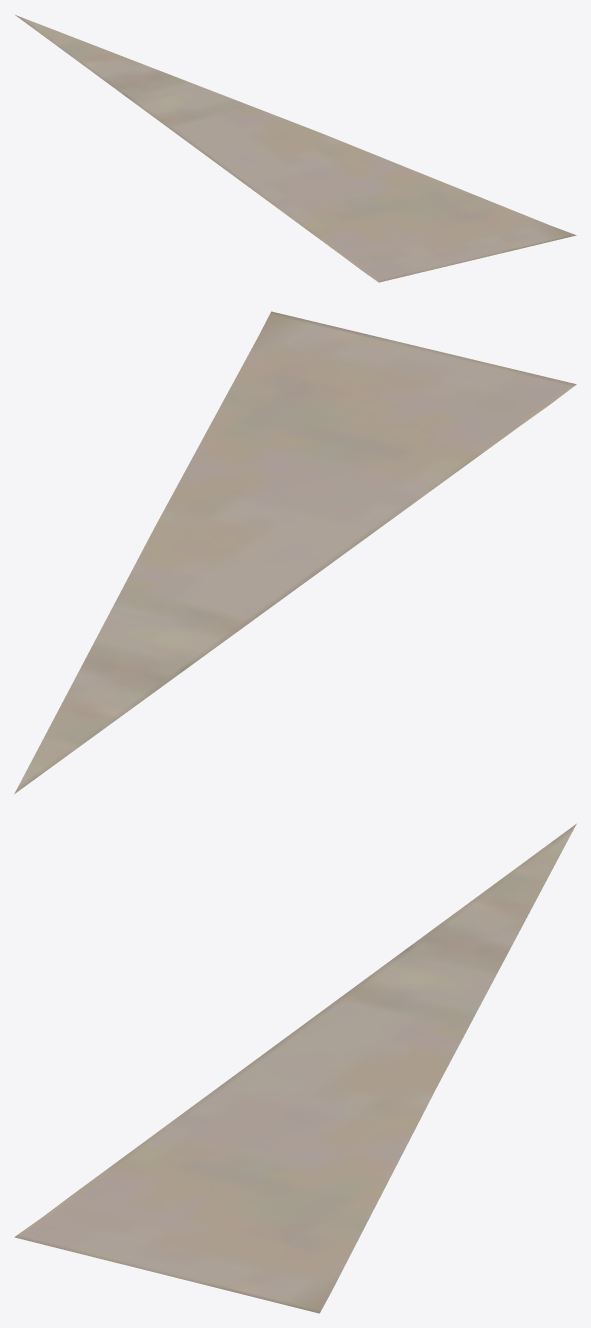
The model's file is CM_Terrain_24491892_6820204.fbx.
3 views of the same model, one above another, from view 1: azimuth 30°, elevation 25°; view 2: azimuth 150°, elevation 25°; view 3: azimuth 330°, elevation 25° (orthographic). The views are drawn at different scales.
Parts seen in each view (by area): view 1: CM_Terrain_24491892_6820204_LOD0; view 2: CM_Terrain_24491892_6820204_LOD0; view 3: CM_Terrain_24491892_6820204_LOD0.
Part boxes in pixels (x1,y1,x2,y2): CM_Terrain_24491892_6820204_LOD0: (15,15,576,282); CM_Terrain_24491892_6820204_LOD0: (14,311,576,793); CM_Terrain_24491892_6820204_LOD0: (14,823,576,1313).
Size of what is drawn, in the model's own units: 4.55 by 0.0734 by 14.51.
